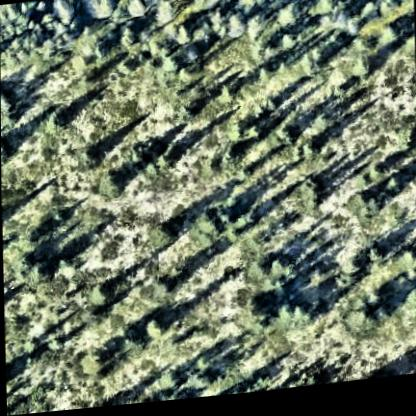tree-top: (240, 294, 279, 339), (345, 304, 383, 346), (296, 177, 329, 214), (350, 193, 382, 231), (147, 219, 180, 254), (79, 344, 112, 379), (193, 211, 225, 246), (267, 258, 300, 291), (148, 147, 179, 182), (280, 303, 316, 333), (100, 168, 131, 201), (43, 106, 72, 137), (171, 21, 198, 54), (222, 12, 249, 44), (141, 315, 169, 345), (213, 143, 243, 171), (78, 141, 105, 171), (274, 6, 302, 34), (157, 365, 183, 394), (1, 85, 19, 125), (88, 0, 117, 24), (88, 281, 113, 308), (304, 55, 328, 81), (353, 60, 375, 87), (379, 30, 402, 55), (124, 0, 148, 23), (404, 285, 416, 329), (226, 120, 247, 145), (52, 0, 79, 19), (31, 260, 52, 284), (91, 39, 113, 61), (340, 262, 362, 284), (384, 177, 404, 201), (279, 131, 299, 155), (342, 23, 362, 45), (399, 126, 416, 151), (366, 0, 390, 1)
